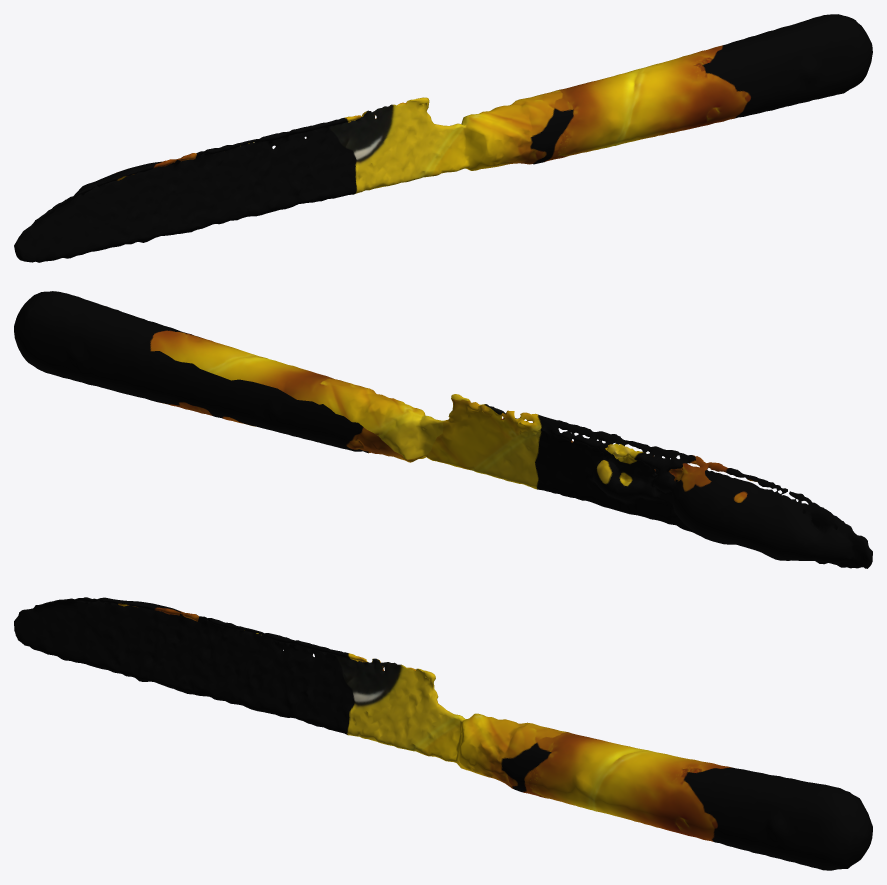
3 renders of one model, top to bottom at view 1: azimuth 30°, elevation 25°; view 2: azimuth 150°, elevation 25°; view 3: azimuth 330°, elevation 25°, orthographic. The views are drawn at different scales.
Bounding box in the file's own units: 0.2148 × 0.0206 × 0.0226.
